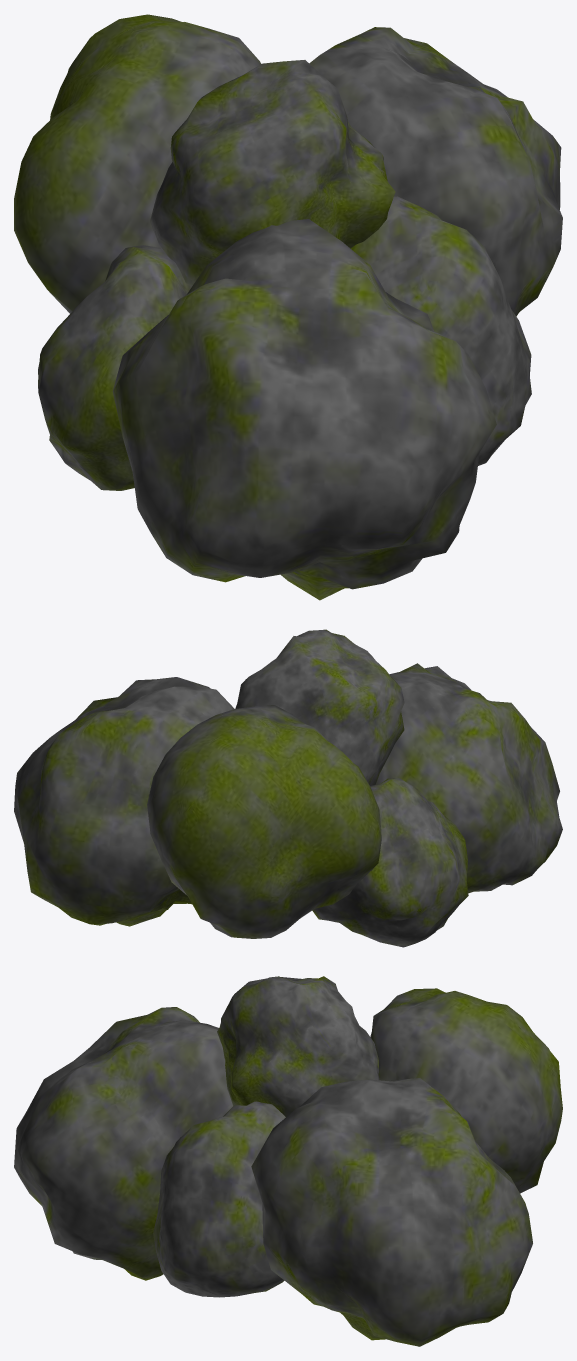
File: boulder_M2.glb
3 views of the same model, one above another, from view 1: azimuth 30°, elevation 25°; view 2: azimuth 150°, elevation 25°; view 3: azimuth 270°, elevation 25° (orthographic). The views are drawn at different scales.
Parts seen in each view (by area): view 1: BoulderOutcropMossyMedium; view 2: BoulderOutcropMossyMedium; view 3: BoulderOutcropMossyMedium.
Part boxes in pixels (left/top/right/bottom): BoulderOutcropMossyMedium: left=14, top=14, right=562, bottom=600; BoulderOutcropMossyMedium: left=14, top=629, right=562, bottom=947; BoulderOutcropMossyMedium: left=14, top=976, right=562, bottom=1346.
Size of the model in its own units: 5.22 by 3.74 by 5.87.
Materials: 1 (1 with a texture image).
